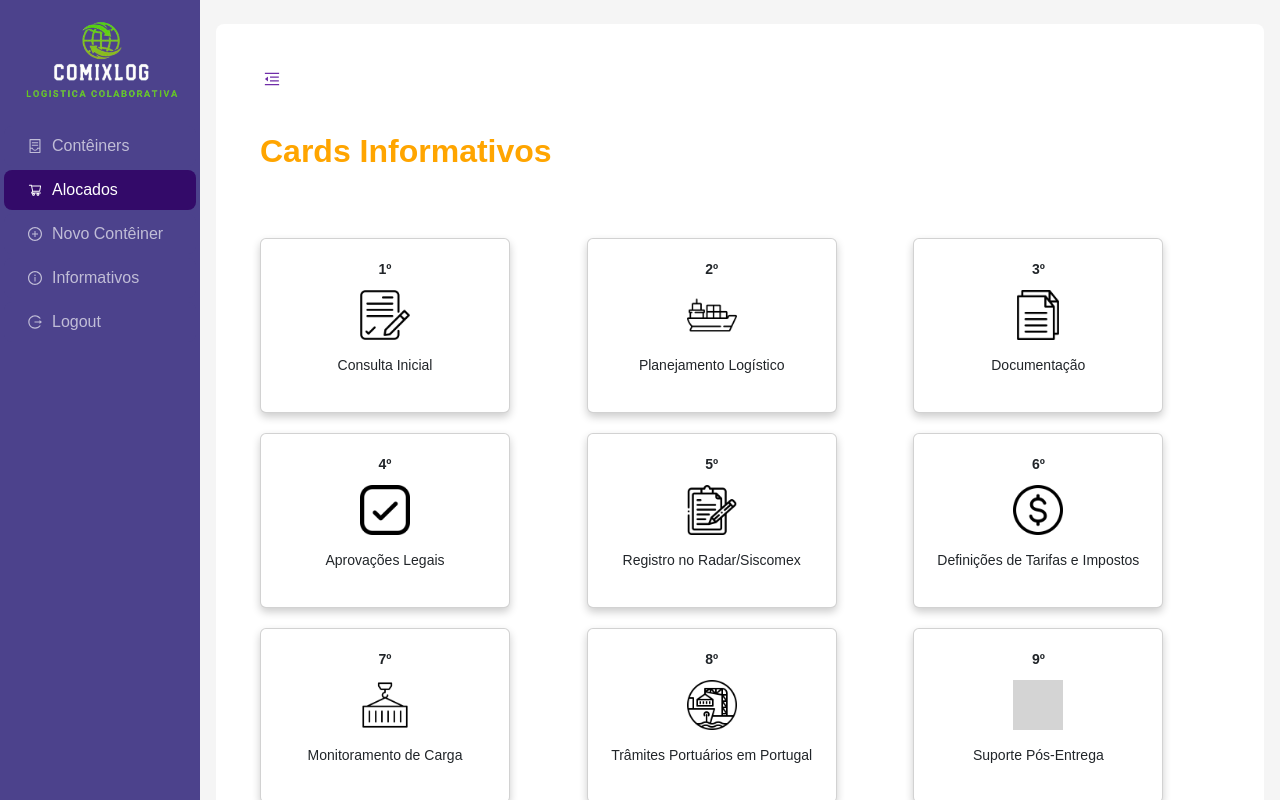
Scenario: InfoPage Integration Test › opens pop-up with card details when a card is clicked
Click the text "Consulta Inicial" at (385, 366), box [338, 355, 432, 376]
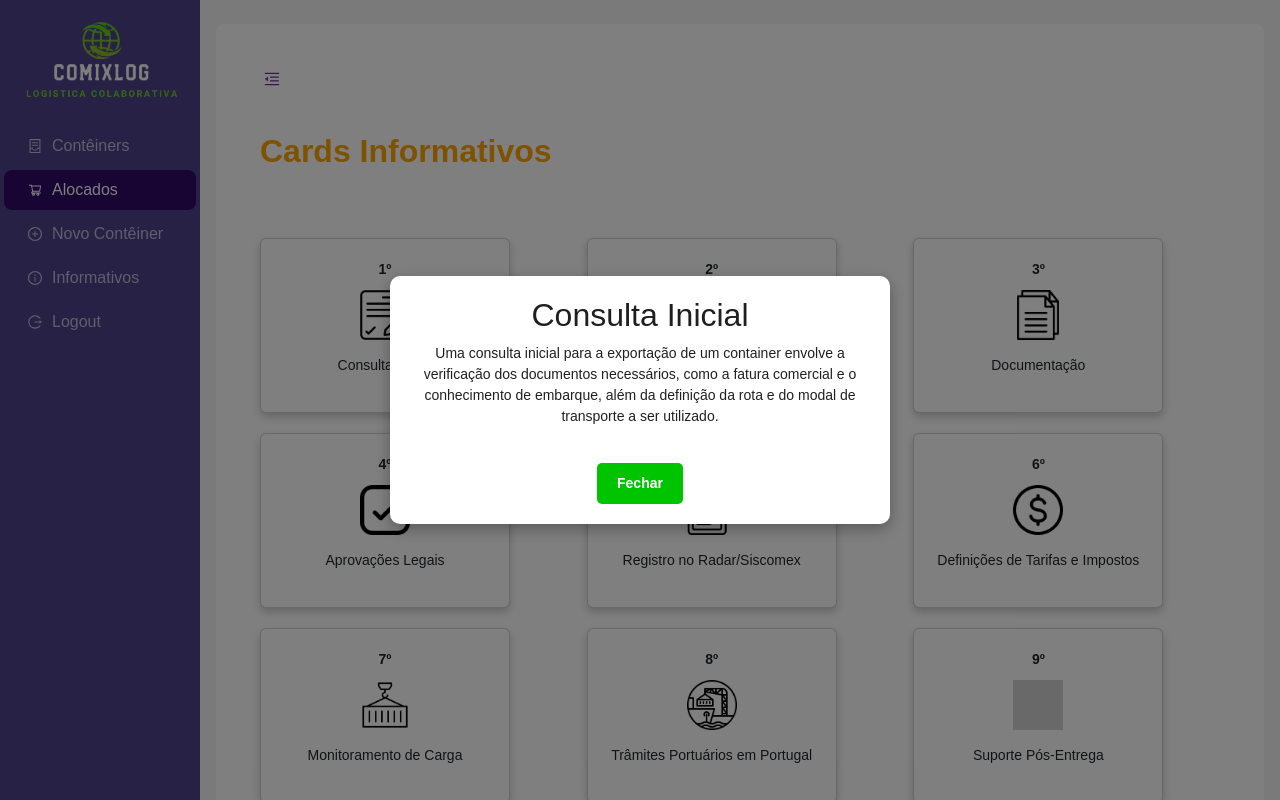
Now the heading "Consulta Inicial" is shown, box [532, 297, 748, 333]
Now the text "Uma consulta inicial para a exportação" is shown, box [424, 345, 856, 424]
